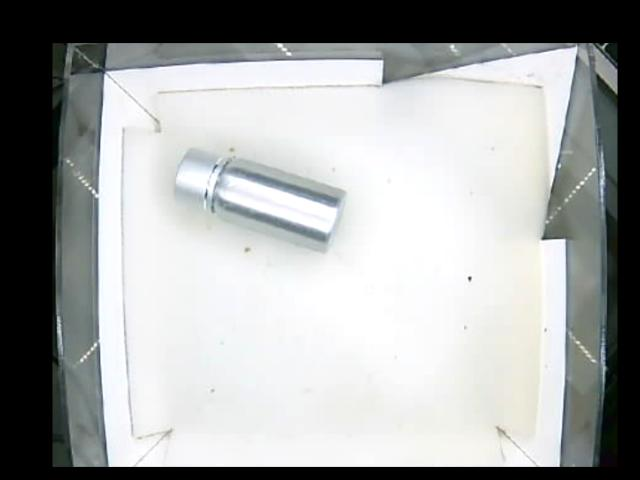Bottle: (173, 145, 344, 255)
